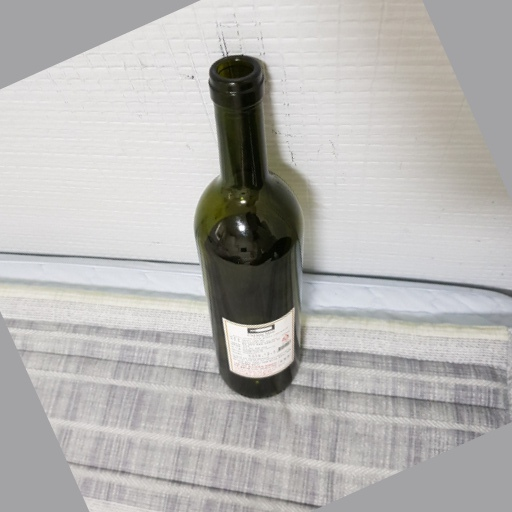Glass_2: (188, 51, 313, 400)
